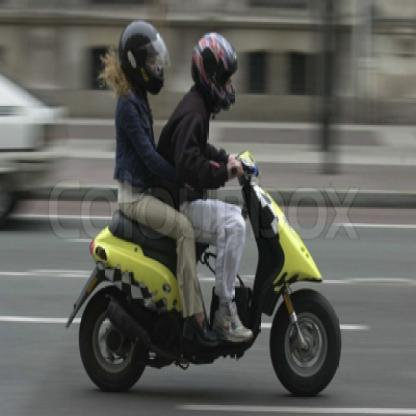Helmet: (95, 17, 172, 107), (189, 29, 243, 112)
